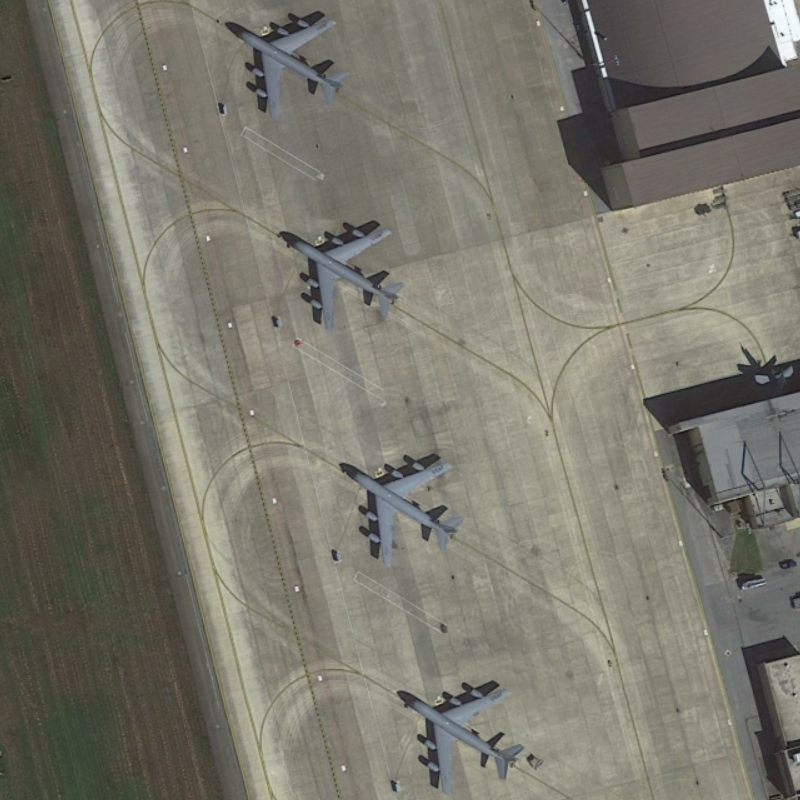A14: (399, 672, 534, 797), (338, 447, 469, 573), (281, 217, 409, 337), (221, 8, 351, 118)
